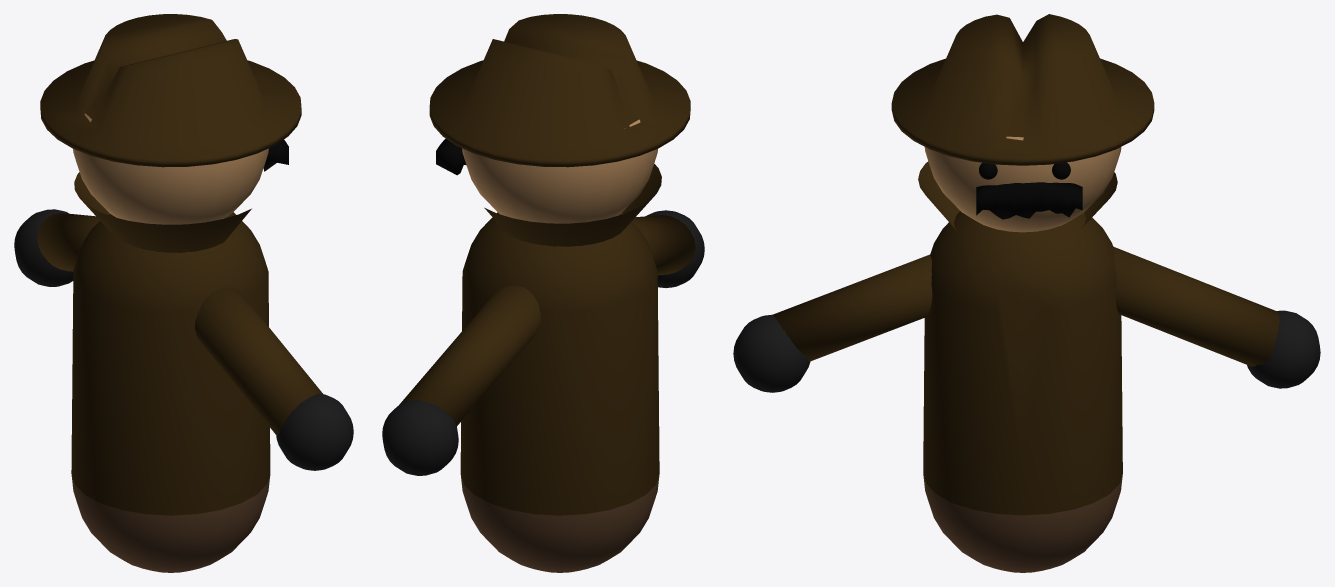
Rendered from personaje detective.glb.
The picture shows the model from 3 angles, left to right: view 1: azimuth 30°, elevation 25°; view 2: azimuth 150°, elevation 25°; view 3: azimuth 270°, elevation 25°; orthographic projection.
Visible parts, largest first — view 1: Sphere.001, Cylinder, Sphere, Cylinder.001, Sphere.002, Cone, Cylinder.002, Sphere.003, Cube.003; view 2: Sphere.001, Cylinder, Sphere, Cylinder.002, Sphere.003, Cone, Cylinder.001, Sphere.002, Cube.003; view 3: Sphere.001, Cylinder, Cylinder.002, Cylinder.001, Sphere, Sphere.002, Sphere.003, Cube.003, Cone.
Boxes of the visible parts, x1,y1,x2,y2 form: Sphere.001: (71,212,270,572); Cylinder: (40,14,301,167); Sphere: (73,110,268,224); Cylinder.001: (195,287,322,435); Sphere.002: (276,393,353,470); Cone: (74,172,251,252); Cylinder.002: (37,213,99,271); Sphere.003: (14,209,73,286); Cube.003: (263,139,288,171); Sphere.001: (460,212,659,572); Cylinder: (429,14,690,167); Sphere: (462,119,657,223); Cylinder.002: (399,286,540,426); Sphere.003: (382,400,458,475); Cone: (484,164,661,246); Cylinder.001: (632,215,695,275); Sphere.002: (646,210,704,287); Cube.003: (436,138,466,175); Sphere.001: (923,211,1122,572); Cylinder: (891,14,1154,165); Cylinder.002: (1113,246,1279,366); Cylinder.001: (773,254,932,361); Sphere: (924,136,1121,232); Sphere.002: (733,314,810,392); Sphere.003: (1247,310,1320,388); Cube.003: (976,182,1082,219); Cone: (918,161,1117,231).
Bounding box in the file's own units: 2.63 × 5.78 × 5.88.
